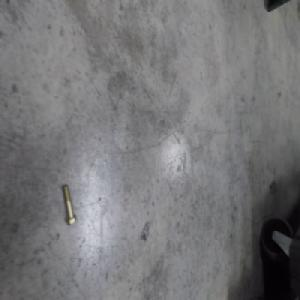Bolt: (61, 183, 77, 227)
